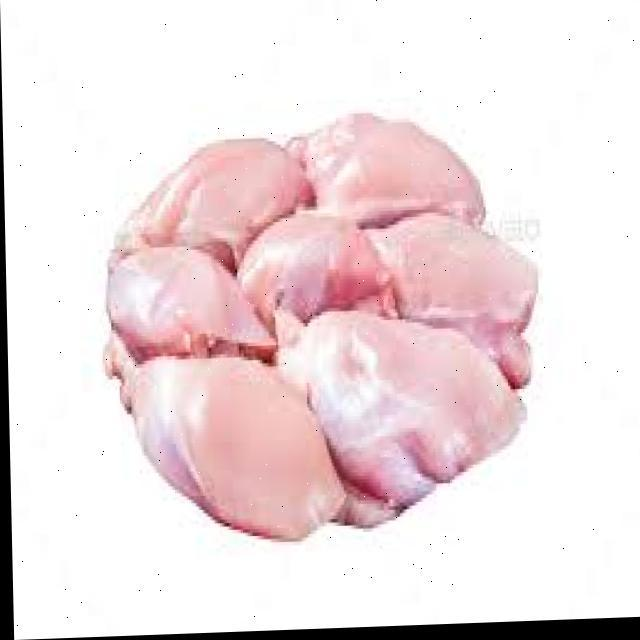breast: (108, 325, 332, 566), (290, 304, 508, 517), (289, 104, 494, 255), (122, 119, 314, 266), (379, 208, 540, 364), (104, 246, 274, 374), (242, 210, 381, 338)
